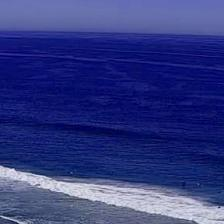surfer: (196, 184, 203, 187), (217, 190, 222, 194), (181, 180, 186, 184), (218, 206, 221, 209)
